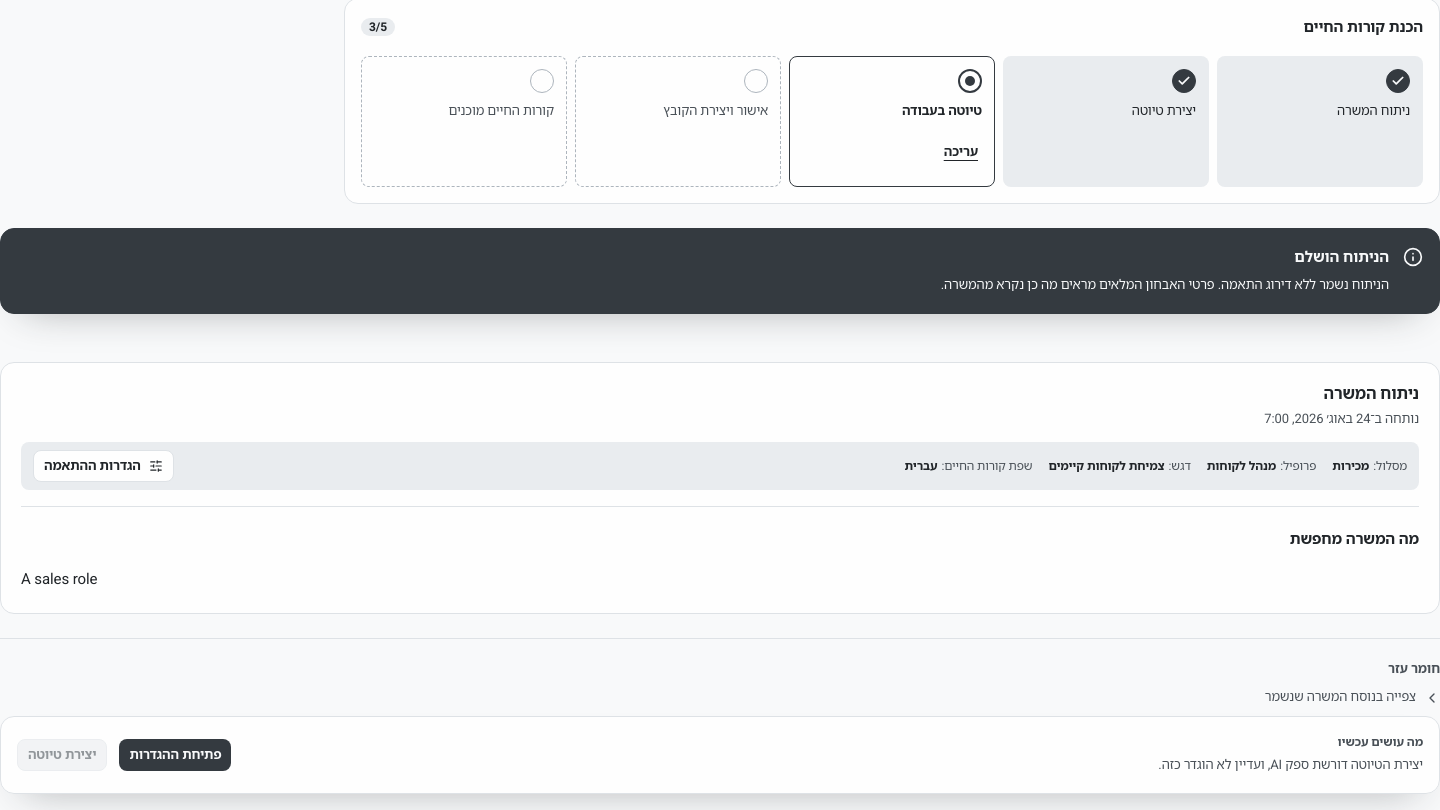
Test: voluntary matching configuration › explains the consequence from server state draft_in_progress
(page scrolled)
Click the button "הגדרות ההתאמה": {"x": 103, "y": 466} [33,450,174,482]
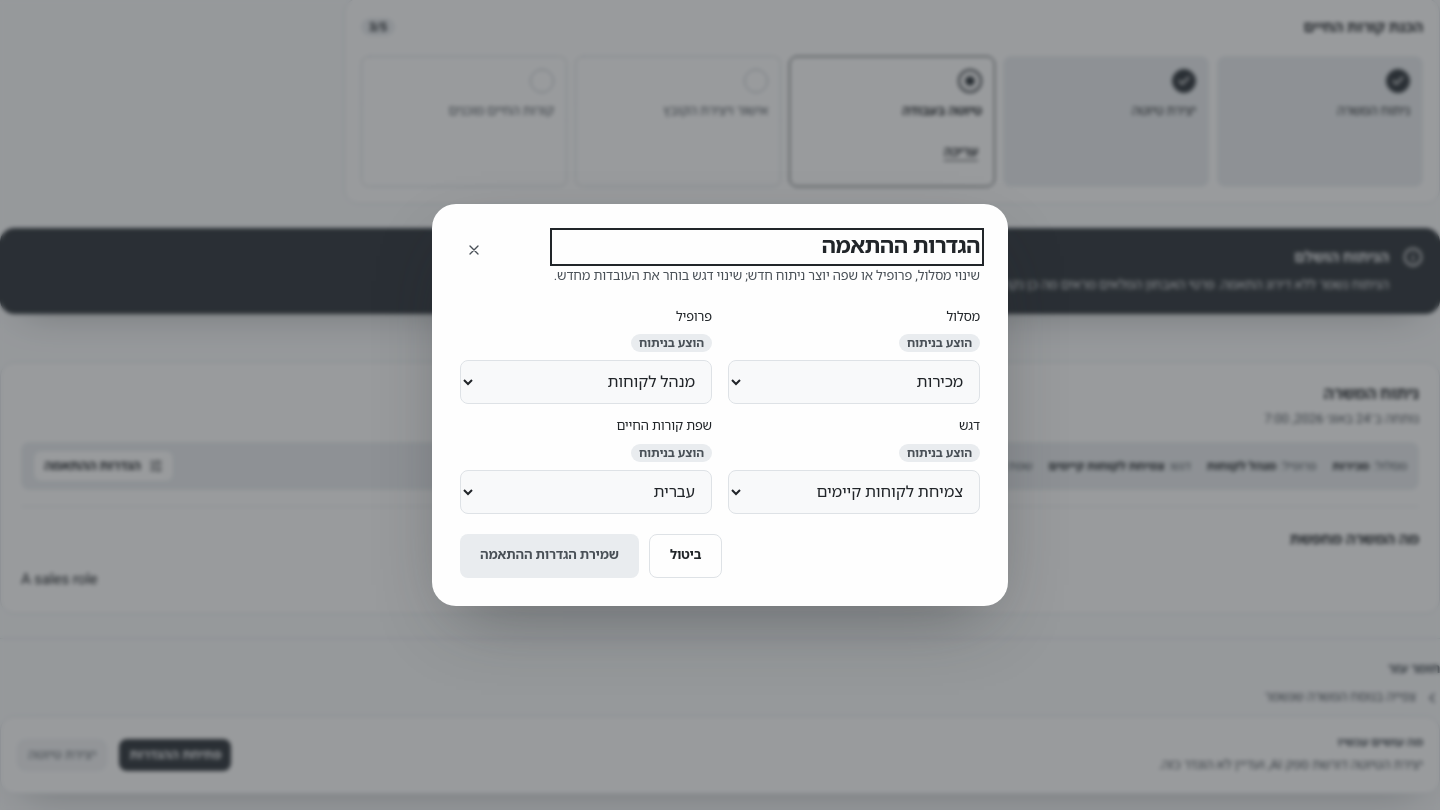
Expected: the text "המסמך יישאר בנוי על הניתוח הנוכחי" is not shown
Select "לקוחות חדשים" in the dropdown labelled "דגש": {"x": 854, "y": 492} [728,470,980,514]
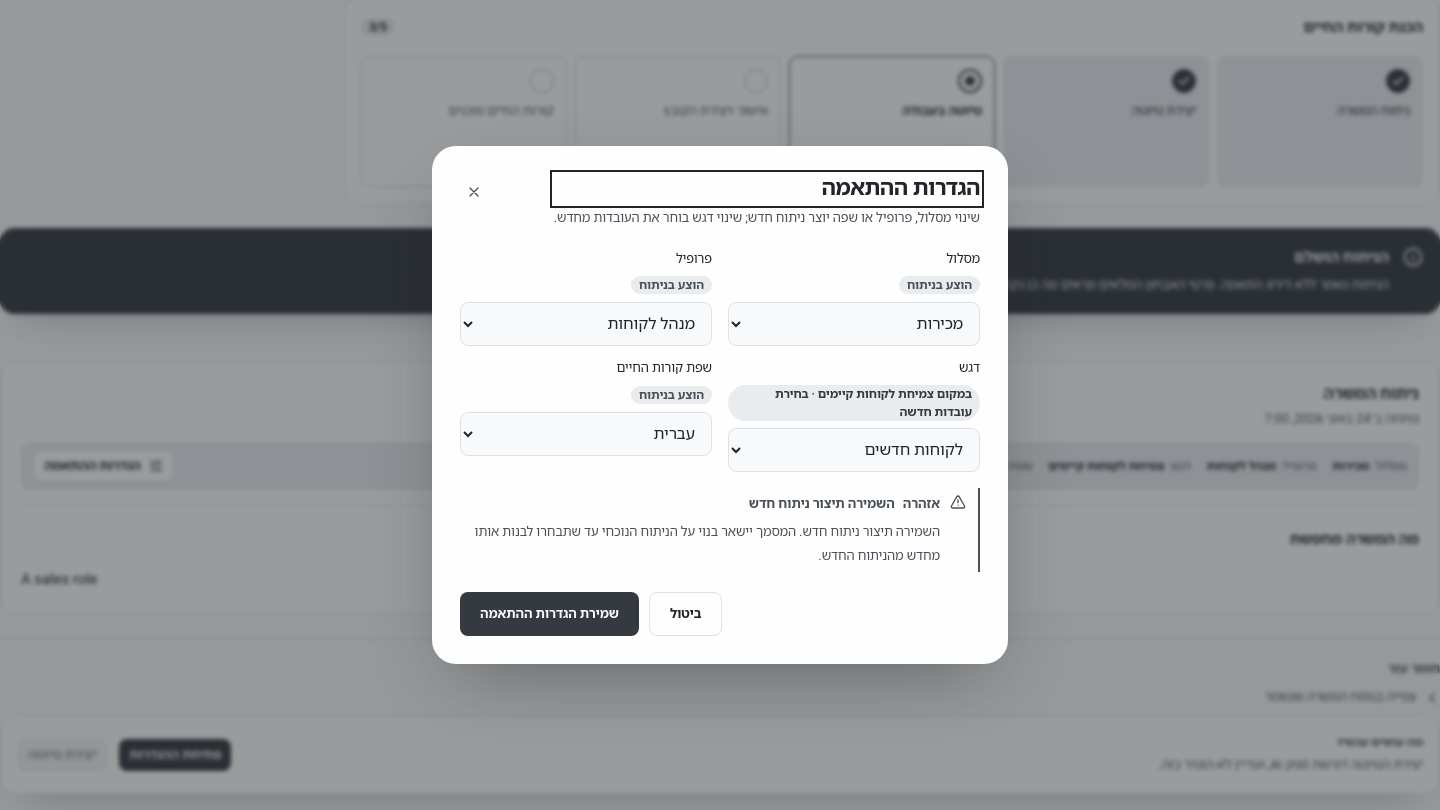
Now the text "המסמך יישאר בנוי על הניתוח הנוכחי" is shown, box [475,522,940,565]
Now the text "השמירה תיצור ניתוח חדש" is shown, box [749,492,895,516]
